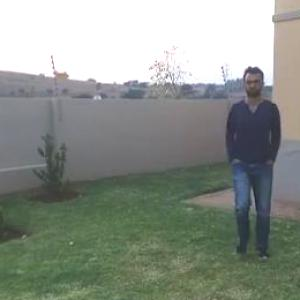follow: (222, 62, 286, 250)
